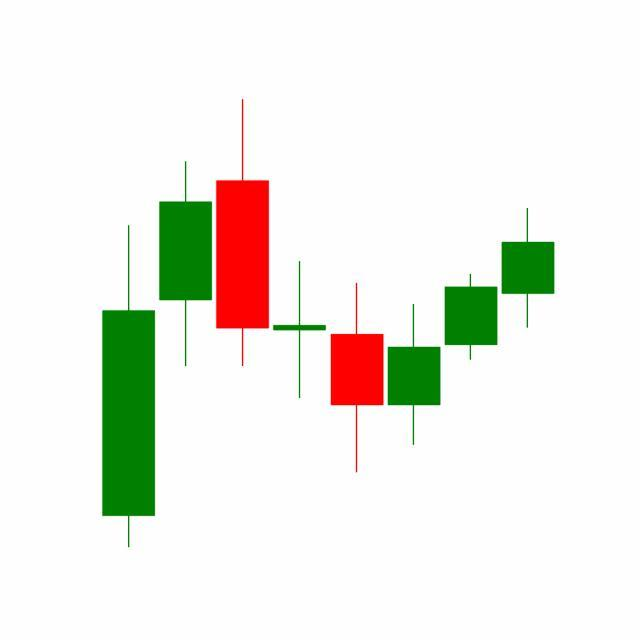Hikkake Pattern: (214, 100, 501, 479)
